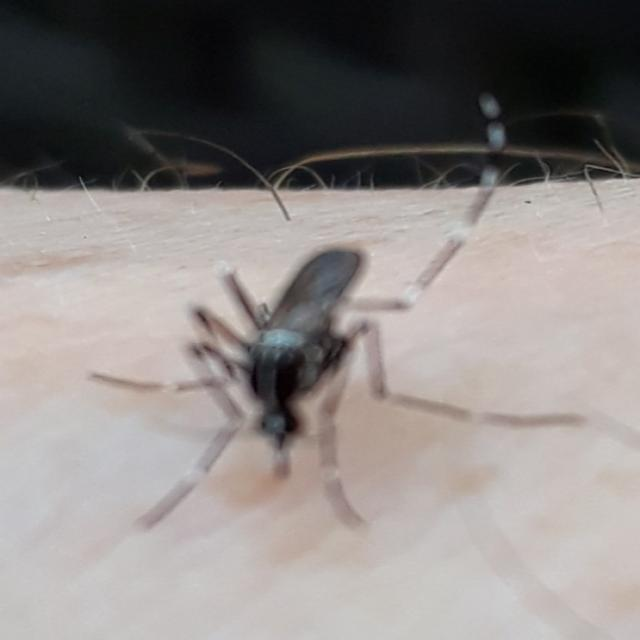albopictus: (90, 230, 463, 492)
